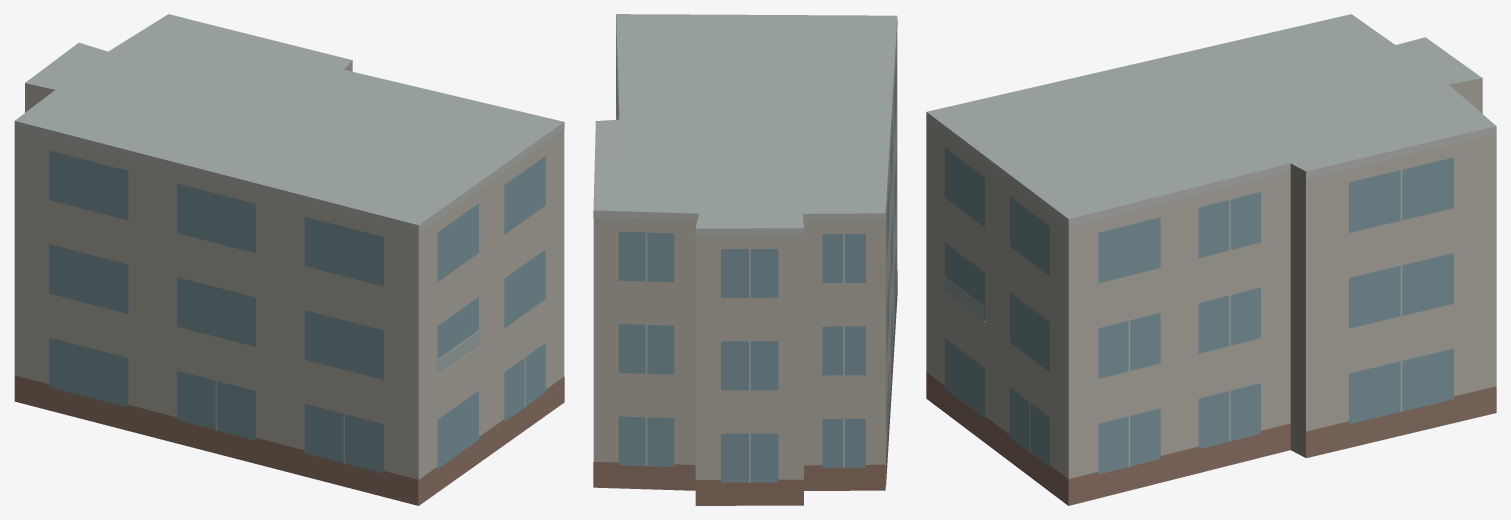
Rendered from survey-upis-32886687.glb.
3 renders of one model, left to right at view 1: azimuth 30°, elevation 25°; view 2: azimuth 150°, elevation 25°; view 3: azimuth 270°, elevation 25°, orthographic. The views are drawn at different scales.
Parts seen in each view (by area): view 1: survey-upis-32886687.tmp; view 2: survey-upis-32886687.tmp; view 3: survey-upis-32886687.tmp.
Part boxes in pixels (x1,y1,x2,y2): survey-upis-32886687.tmp: (14, 14, 564, 505); survey-upis-32886687.tmp: (593, 14, 897, 505); survey-upis-32886687.tmp: (926, 14, 1496, 505).
Bounding box in the file's own units: 13.81 × 9 × 16.23.
